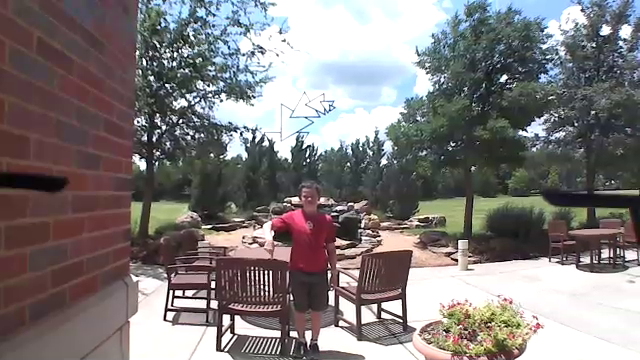down: (261, 232, 280, 266)
